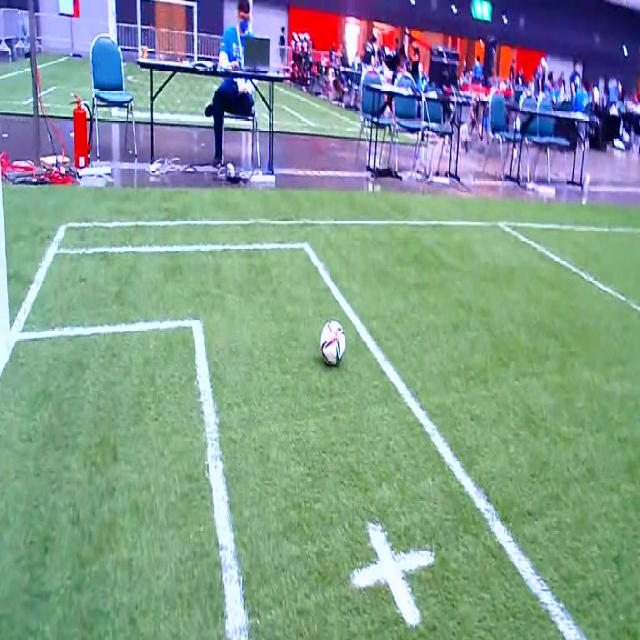ball: (320, 320, 346, 366)
